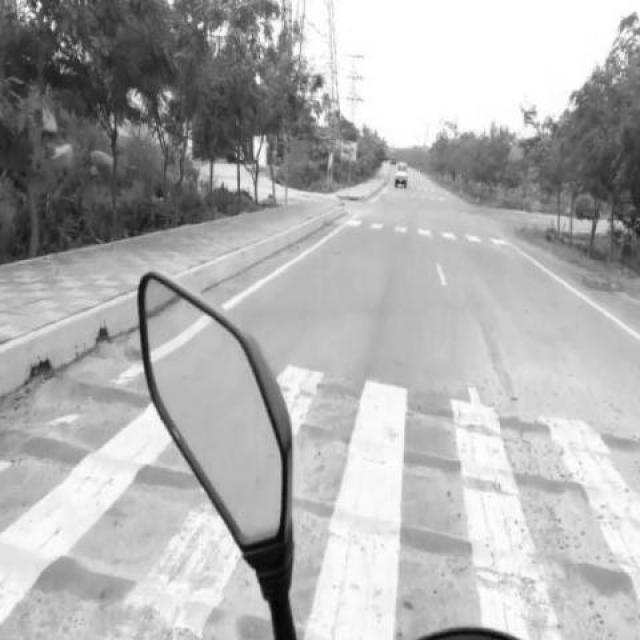Speed Bump: (285, 358, 639, 454), (333, 512, 640, 620), (293, 412, 640, 500), (1, 532, 224, 640), (1, 424, 183, 496), (53, 377, 156, 412), (90, 338, 142, 364)
